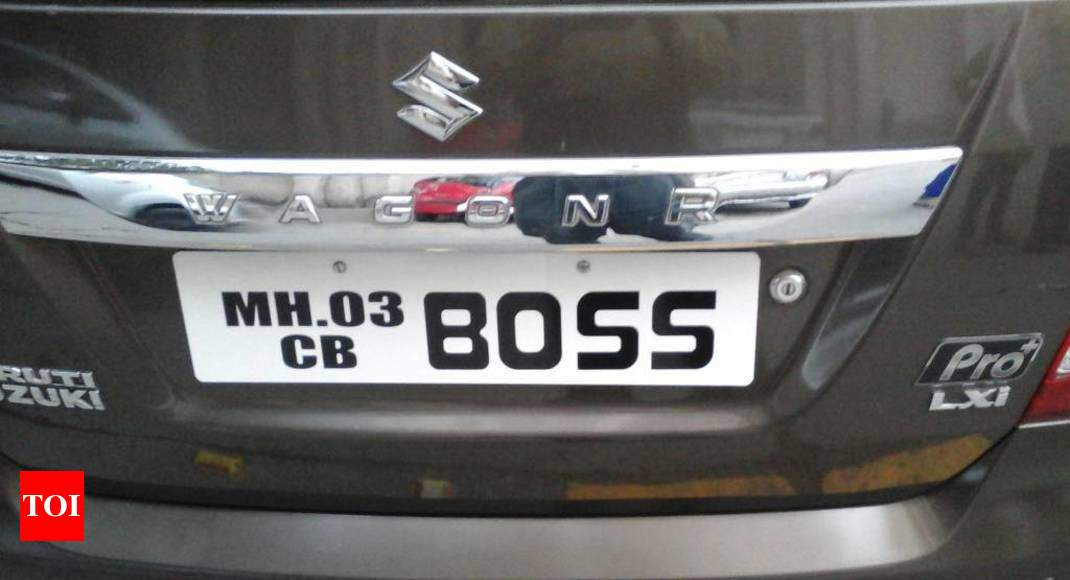number_plate: (164, 244, 762, 389)
